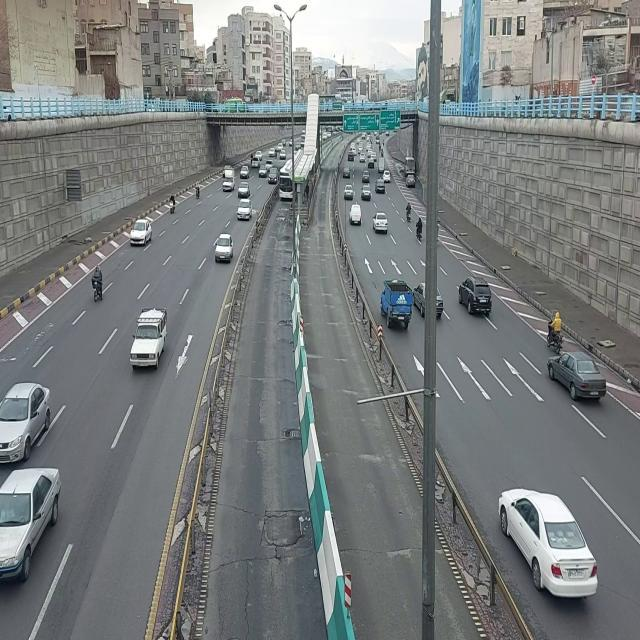Car: (497, 487, 601, 602), (0, 462, 63, 584), (1, 377, 52, 466), (547, 349, 609, 401), (458, 274, 492, 318), (129, 216, 153, 250), (215, 230, 235, 266), (236, 198, 254, 222), (374, 212, 388, 234), (268, 167, 280, 186), (344, 183, 354, 201), (361, 185, 371, 202), (375, 179, 385, 195)
Motorcycle: (547, 310, 563, 355), (91, 262, 103, 302), (416, 216, 424, 244), (169, 192, 177, 217), (406, 202, 412, 227)
Pickup: (127, 305, 169, 371), (379, 278, 415, 332), (349, 203, 363, 227), (223, 167, 235, 194)
